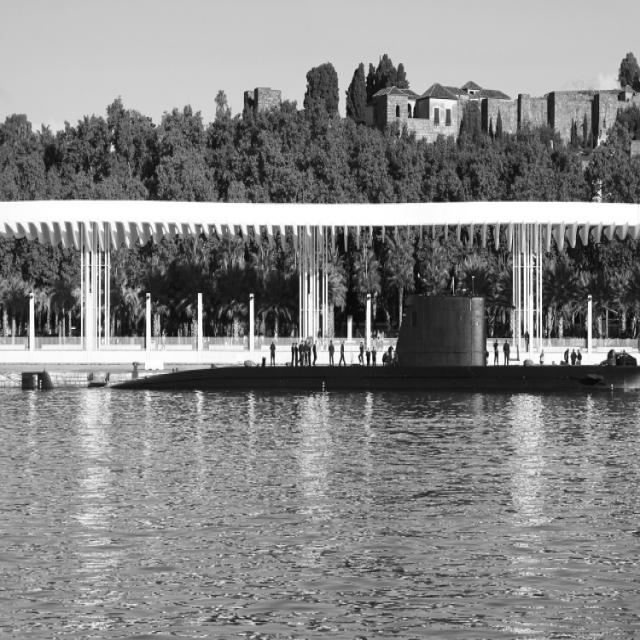submarine: (108, 293, 640, 393)
